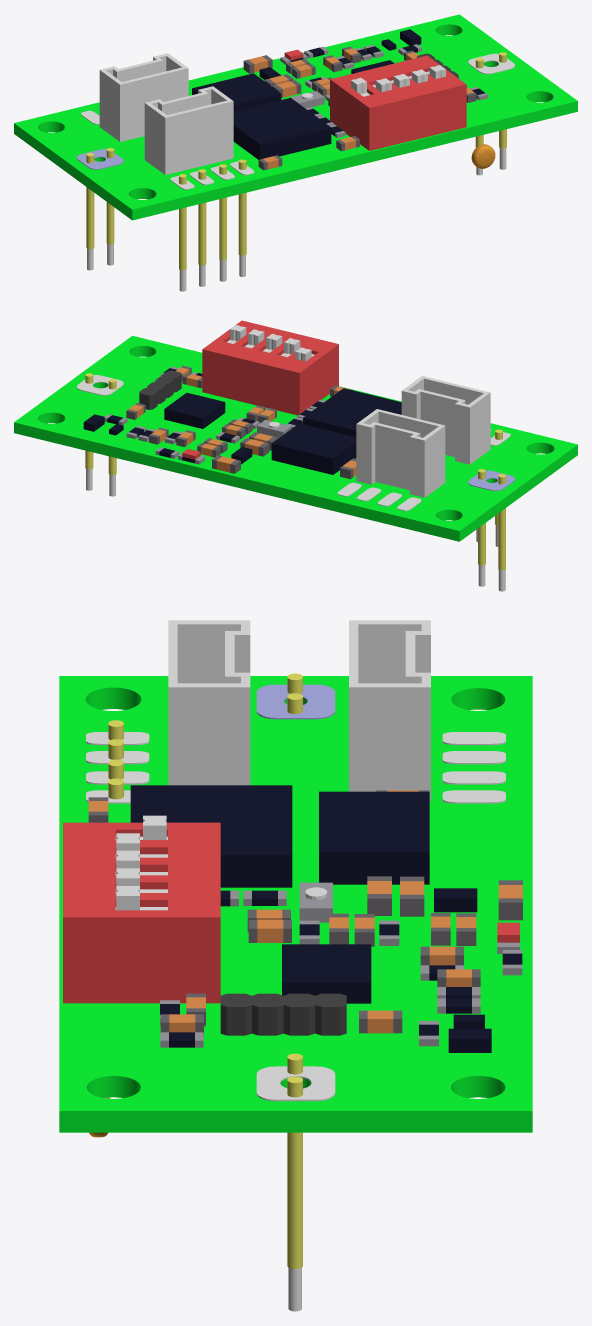
File: aku-test.gltf
3 renders of one model, top to bottom at view 1: azimuth 30°, elevation 25°; view 2: azimuth 150°, elevation 25°; view 3: azimuth 270°, elevation 25°, orthographic. The views are drawn at different scales.
Parts seen in each view (by area): view 1: Plytka_wzorcowa_Aku_HV.010; view 2: Plytka_wzorcowa_Aku_HV.010; view 3: Plytka_wzorcowa_Aku_HV.010.
Part boxes in pixels (left/top/right/bottom): Plytka_wzorcowa_Aku_HV.010: left=14, top=14, right=577, bottom=291; Plytka_wzorcowa_Aku_HV.010: left=14, top=320, right=577, bottom=591; Plytka_wzorcowa_Aku_HV.010: left=59, top=620, right=532, bottom=1311.
Size of the model in its own units: 0.846 by 0.2971 by 0.3892.
